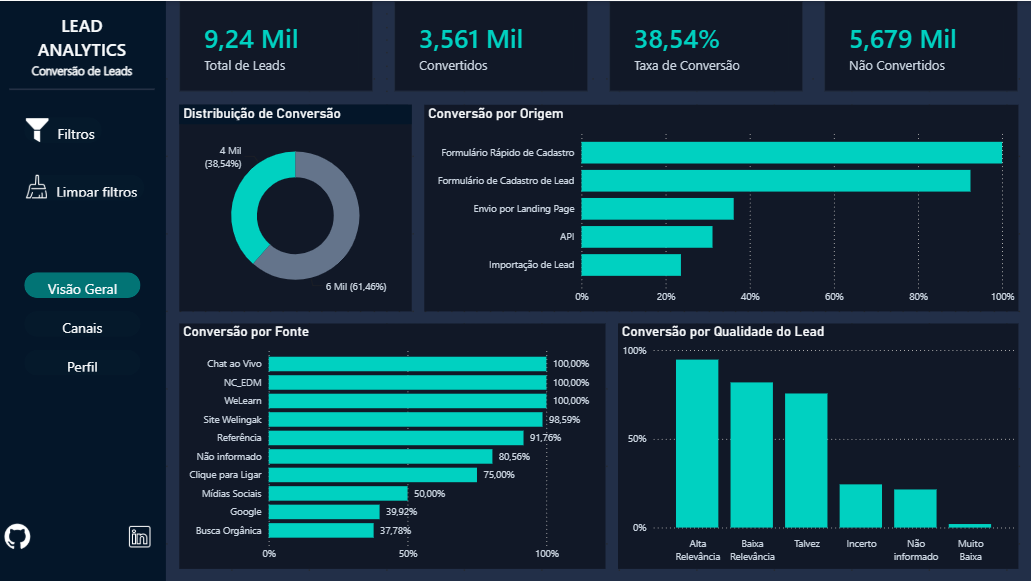

The dashboard page shown, as its layout file describes it:
{"tool":"powerbi","page":{"name":"01 Visão Geral","canvas":[1280,720],"ordinal":0},"visuals":[{"type":"shape","box":[0,0,208,720],"z":0,"group":"g1"},{"type":"cardVisual","fields":{"Data":["leads_tratados_mvp1.Total de Leads"]},"box":[224,0,240,112],"z":0},{"type":"actionButton","title":"Filtros","box":[32,480,144,32],"z":125,"group":"g1"},{"type":"actionButton","title":"Filtros","box":[32,336,144,32],"z":250,"group":"g1"},{"type":"image","box":[0,640,48,48],"z":500,"group":"g1"},{"type":"actionButton","title":"Filtros","box":[32,384,144,32],"z":750,"group":"g1"},{"type":"actionButton","title":"Filtros","box":[32,432,144,32],"z":875,"group":"g1"},{"type":"cardVisual","fields":{"Data":["leads_tratados_mvp1.Leads Convertidos"]},"box":[490.7,0,240,112],"z":1000},{"type":"textbox","box":[0,10.8,207.8,89.1],"z":1000,"group":"g1"},{"type":"textbox","box":[0,70.7,208,41.8],"z":2000,"group":"g1"},{"type":"donutChart","title":"Distribuição de Conversão","fields":{"Category":["leads_tratados_mvp1.Status Conversão"],"Y":["leads_tratados_mvp1.Total de Leads"]},"box":[224,128,288,256],"z":2000},{"type":"cardVisual","fields":{"Data":["leads_tratados_mvp1.Leads Não Convertidos"]},"box":[1024,0,240,112],"z":3000},{"type":"shape","box":[13.3,69.3,180.2,79.4],"z":3000,"group":"g1"},{"type":"cardVisual","fields":{"Data":["leads_tratados_mvp1.Taxa de Conversão"]},"box":[757.3,0,240,112],"z":4000},{"type":"actionButton","title":"Filtros","box":[32,144,96,32],"z":4000,"group":"g1"},{"type":"image","box":[32,144,32,32],"z":5000,"group":"g1"},{"type":"barChart","title":"Conversão por Fonte","fields":{"Category":["leads_tratados_mvp1.fonte_do_lead"],"Y":["leads_tratados_mvp1.Taxa de Conversão"]},"box":[224,400,528,304],"z":5000},{"type":"actionButton","title":"Filtros","box":[37,215,144,32],"z":5500,"group":"g1"},{"type":"image","box":[160,640,32,48],"z":5750,"group":"g1"},{"type":"image","box":[32,215,32,32],"z":6000,"group":"g1"},{"type":"image","box":[32,144,32,32],"z":8000},{"type":"barChart","title":"Conversão por Origem","fields":{"Category":["leads_tratados_mvp1.origem_do_lead"],"Y":["leads_tratados_mvp1.Taxa de Conversão"]},"box":[528,128,736,256],"z":9000},{"type":"group","id":"g1","title":"Grupo 2","box":[0,0,208,720],"z":11000},{"type":"columnChart","title":"Conversão por Qualidade do Lead","fields":{"Category":["leads_tratados_mvp1.qualidade_do_lead"],"Y":["leads_tratados_mvp1.Taxa de Conversão"]},"box":[768,400,496,304],"z":12000}]}

Visuals, with their boxes in screenshot pixels (x1, y1, x2, y2), scaled from the page's 1280x720 canvas onto the 1031x581 screenshot:
shape: left=0, top=0, right=168, bottom=580
cardVisual - leads_tratados_mvp1.Total de Leads: left=180, top=0, right=374, bottom=90
"Filtros" actionButton: left=26, top=387, right=142, bottom=413
"Filtros" actionButton: left=26, top=271, right=142, bottom=297
image: left=0, top=516, right=39, bottom=555
"Filtros" actionButton: left=26, top=310, right=142, bottom=336
"Filtros" actionButton: left=26, top=349, right=142, bottom=374
cardVisual - leads_tratados_mvp1.Leads Convertidos: left=395, top=0, right=589, bottom=90
textbox: left=0, top=9, right=167, bottom=81
textbox: left=0, top=57, right=168, bottom=91
"Distribuição de Conversão" donutChart: left=180, top=103, right=412, bottom=310
cardVisual - leads_tratados_mvp1.Leads Não Convertidos: left=825, top=0, right=1018, bottom=90
shape: left=11, top=56, right=156, bottom=120
cardVisual - leads_tratados_mvp1.Taxa de Conversão: left=610, top=0, right=803, bottom=90
"Filtros" actionButton: left=26, top=116, right=103, bottom=142
image: left=26, top=116, right=52, bottom=142
"Conversão por Fonte" barChart: left=180, top=323, right=606, bottom=568
"Filtros" actionButton: left=30, top=173, right=146, bottom=199
image: left=129, top=516, right=155, bottom=555
image: left=26, top=173, right=52, bottom=199
image: left=26, top=116, right=52, bottom=142
"Conversão por Origem" barChart: left=425, top=103, right=1018, bottom=310
"Grupo 2" group: left=0, top=0, right=168, bottom=580
"Conversão por Qualidade do Lead" columnChart: left=619, top=323, right=1018, bottom=568
